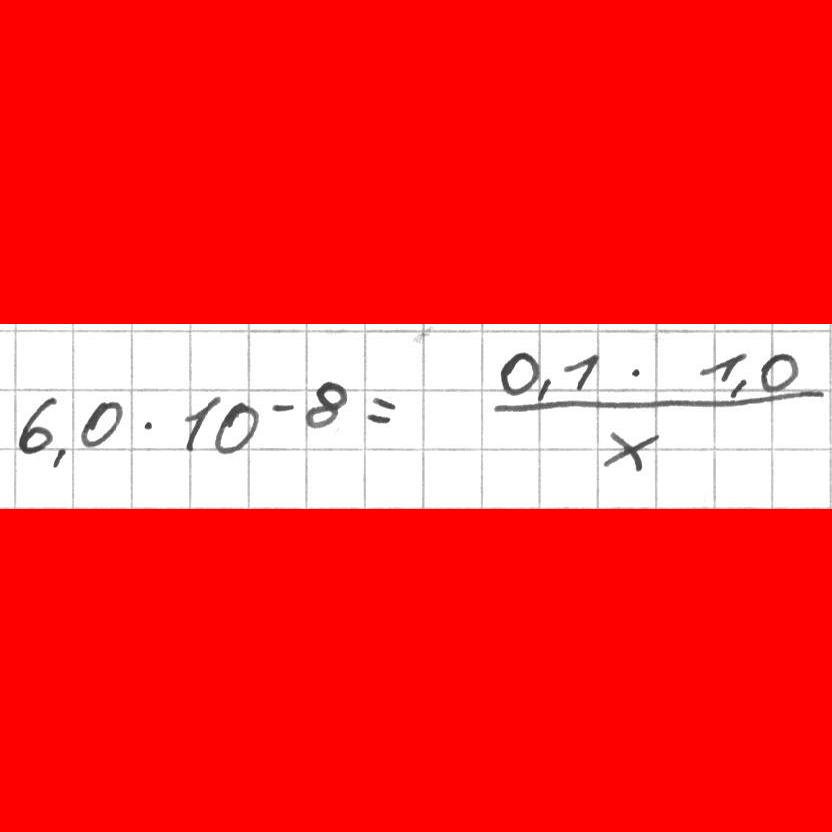Char: (484, 395, 814, 414), (601, 423, 659, 477), (213, 397, 261, 458), (15, 391, 59, 455), (301, 375, 349, 430), (179, 394, 222, 453), (76, 398, 125, 449), (755, 346, 802, 396), (498, 347, 538, 397), (697, 347, 747, 383), (559, 354, 602, 390), (363, 393, 395, 426), (726, 374, 753, 402), (622, 362, 650, 386), (266, 394, 295, 417), (136, 415, 164, 438), (51, 442, 72, 469), (535, 377, 557, 401)
